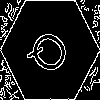Q: (25, 25, 79, 83)
